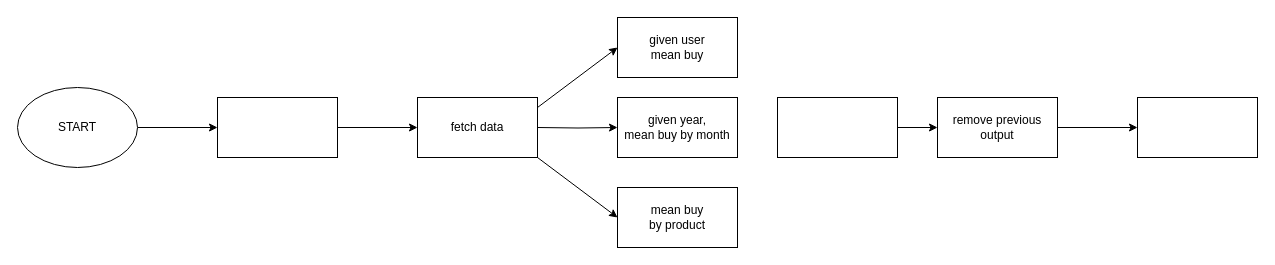
This 1275x265 diagram has some shape labels left out. The box of each missing label's shape, as (x1, y1, x2, y2) in pixels:
Connect DB: (216, 96, 338, 158)
format output: (776, 96, 898, 158)
write output to disk: (1136, 96, 1258, 158)
